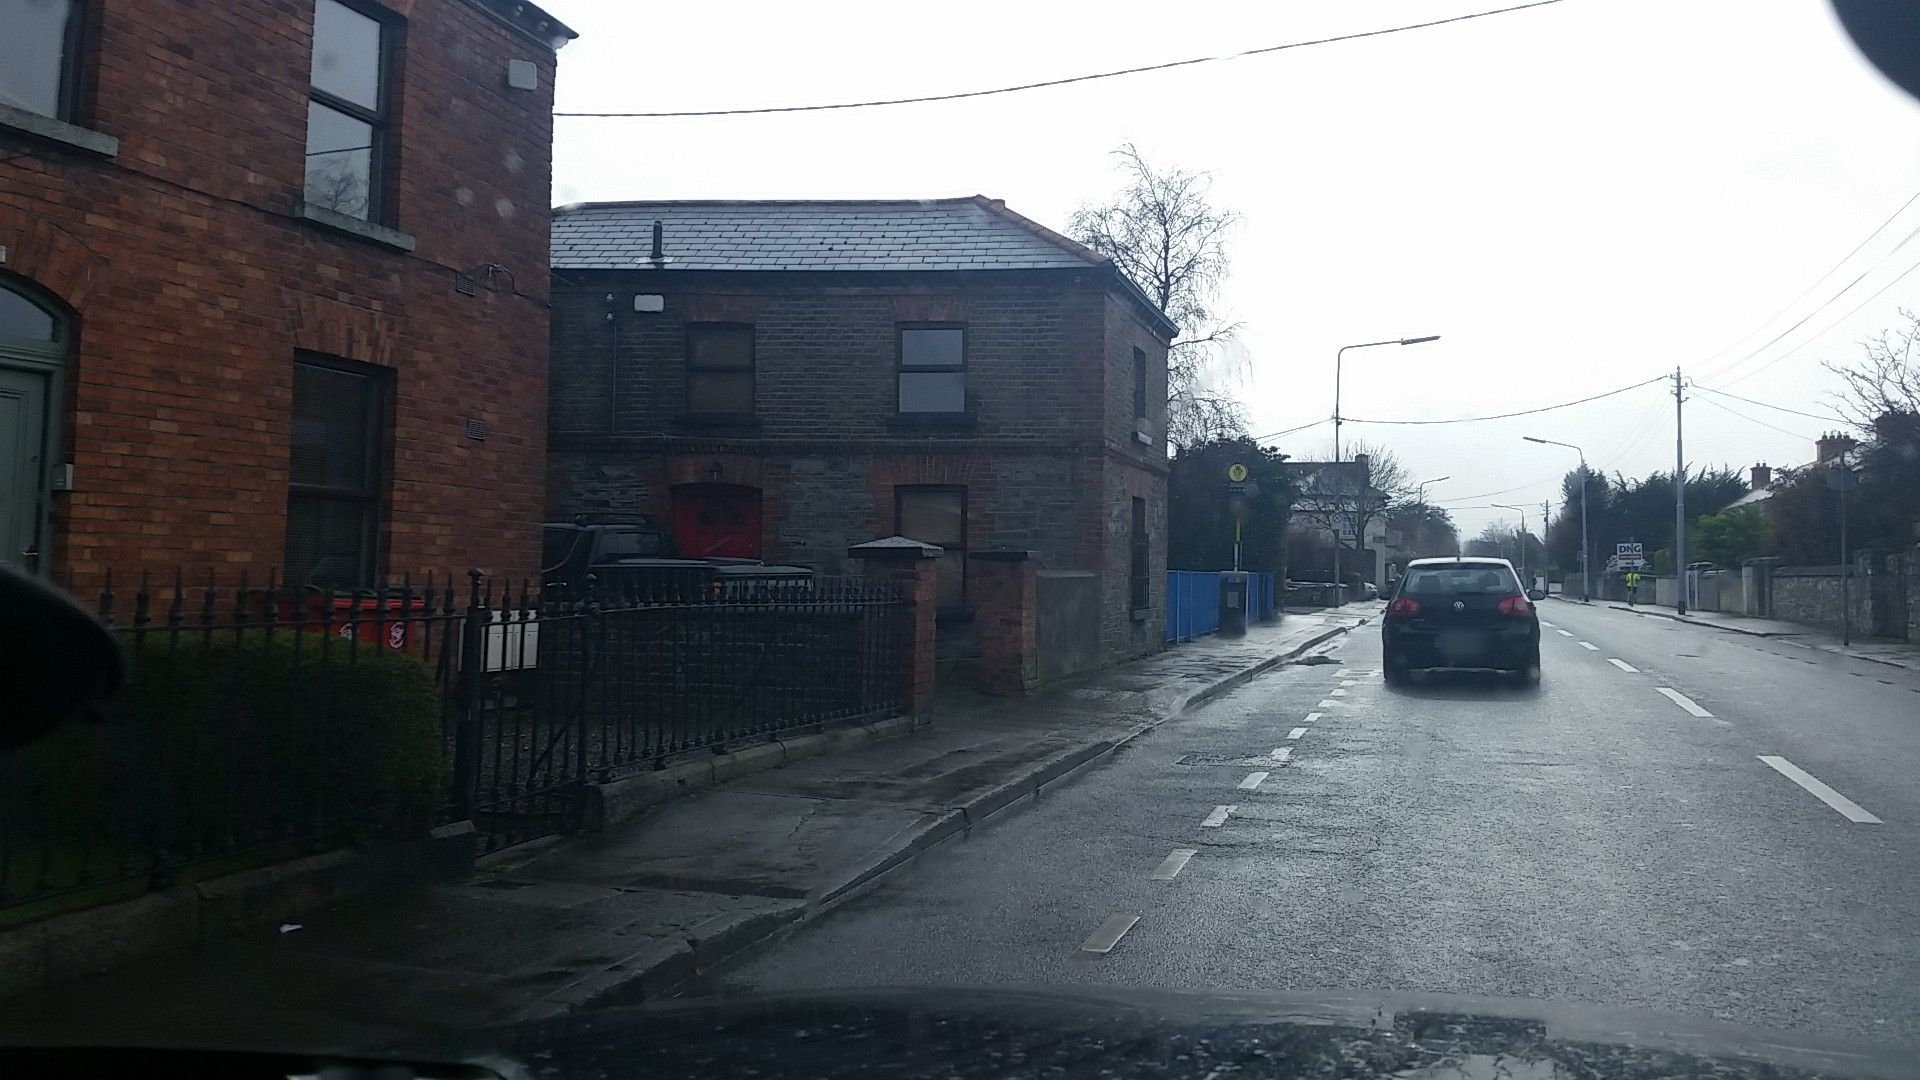property sign: (1615, 535, 1650, 572)
